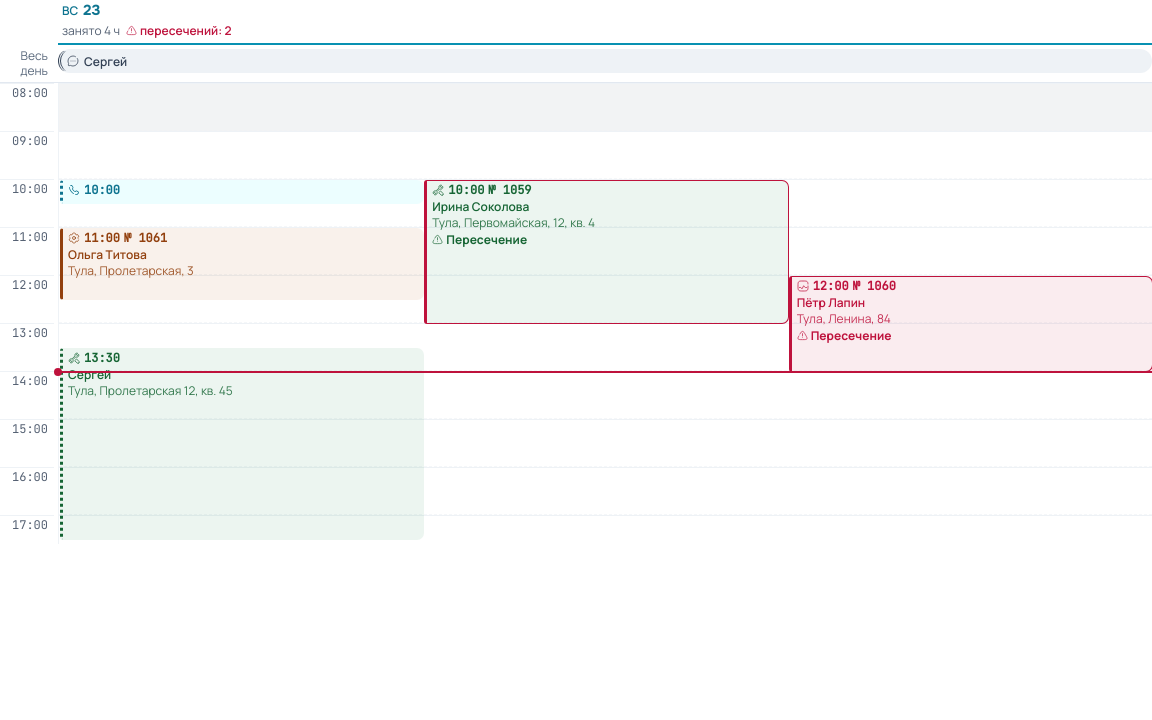
Test: Сетка часов › карточка закрывается с клавиатуры и возвращает фокус на запись
(page scrolled)
Click the button with aria-label "Наряд № 1059" at (466,190), box x1=424 y1=180 x2=789 y2=324
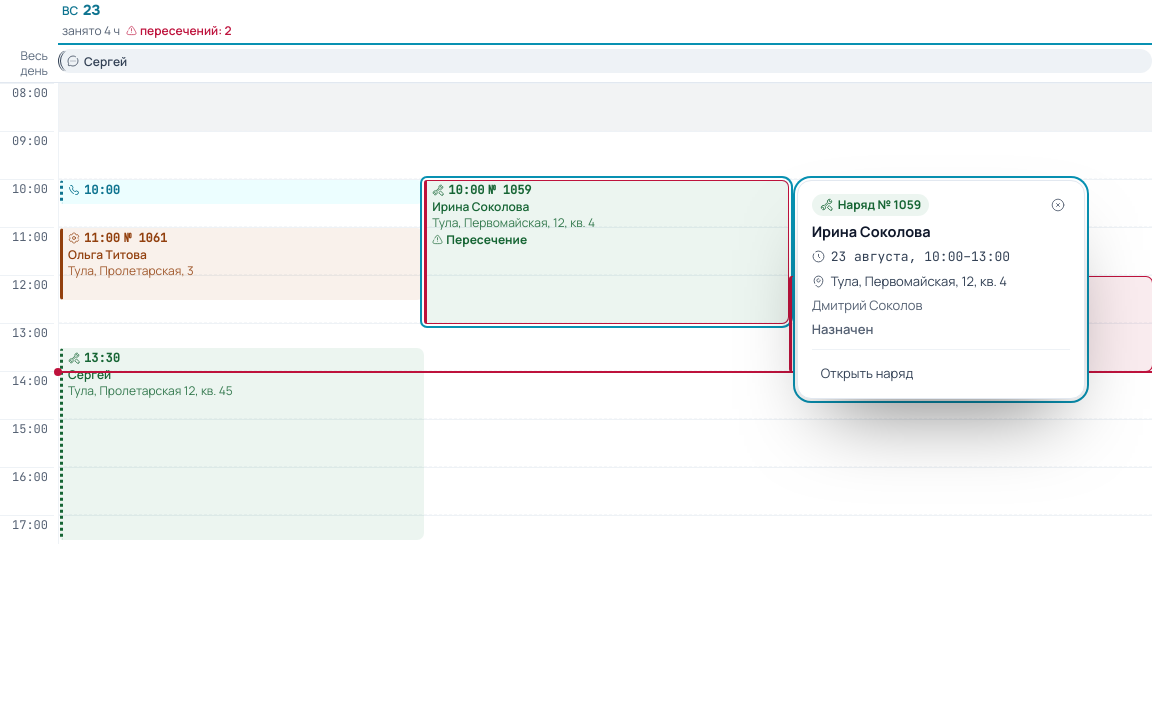
Press Escape
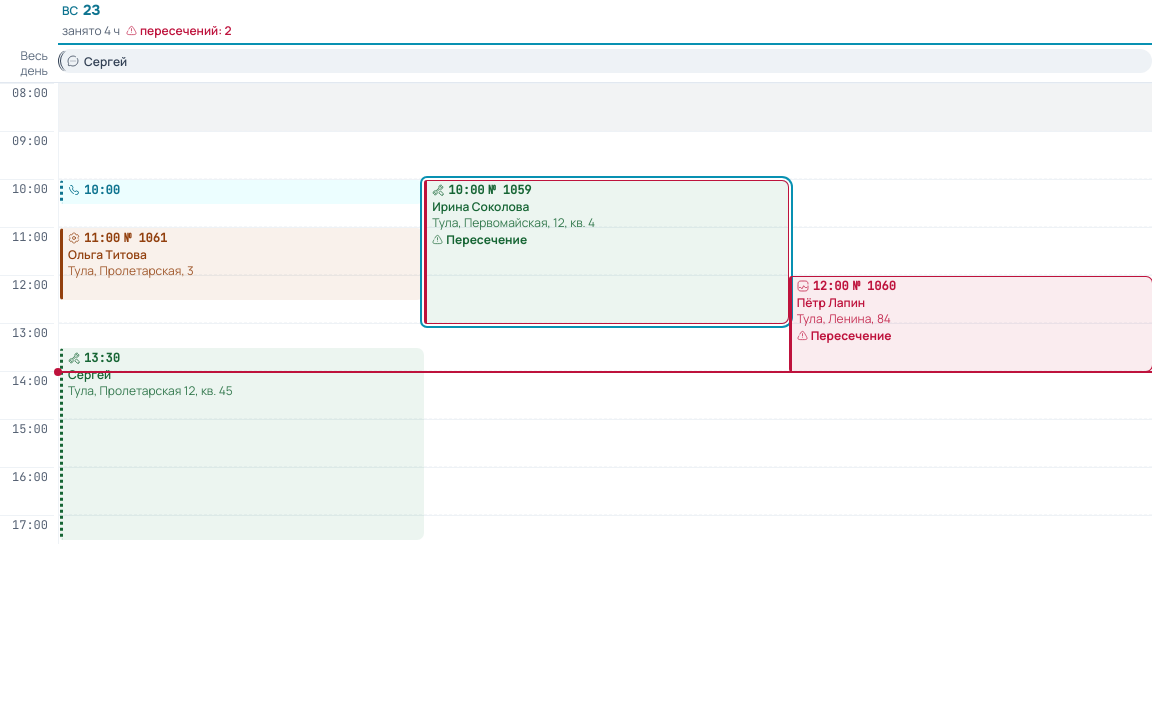
expect the dialog is gone: met
